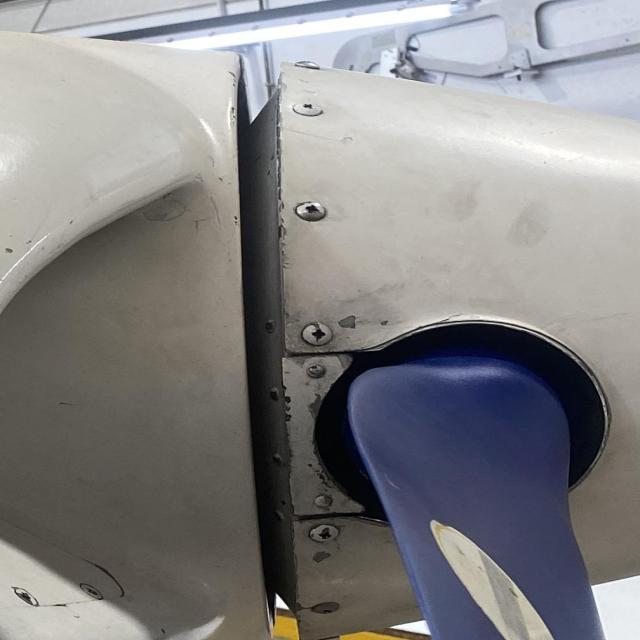Paint-off: (154, 624, 174, 639), (5, 246, 15, 254), (23, 239, 38, 244)
